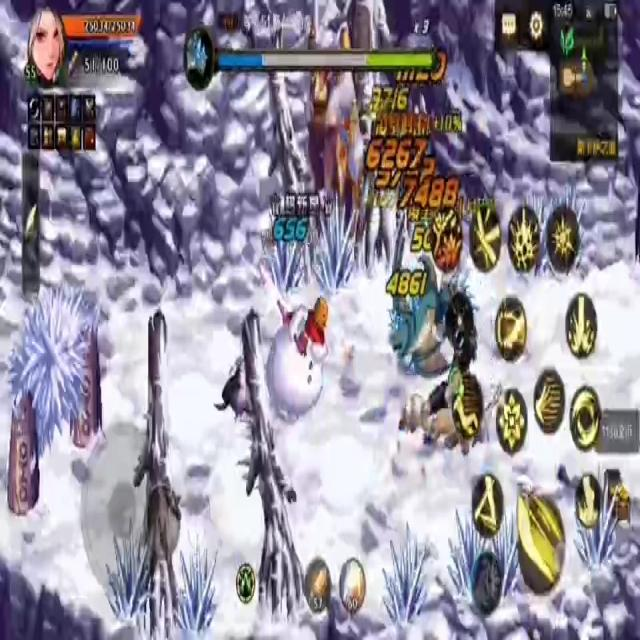player: (265, 286, 330, 430)
